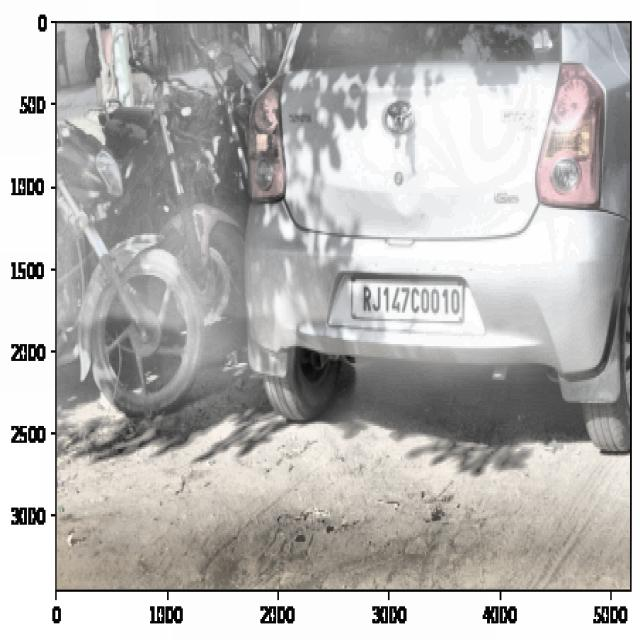license_plate: (356, 279, 465, 326)
